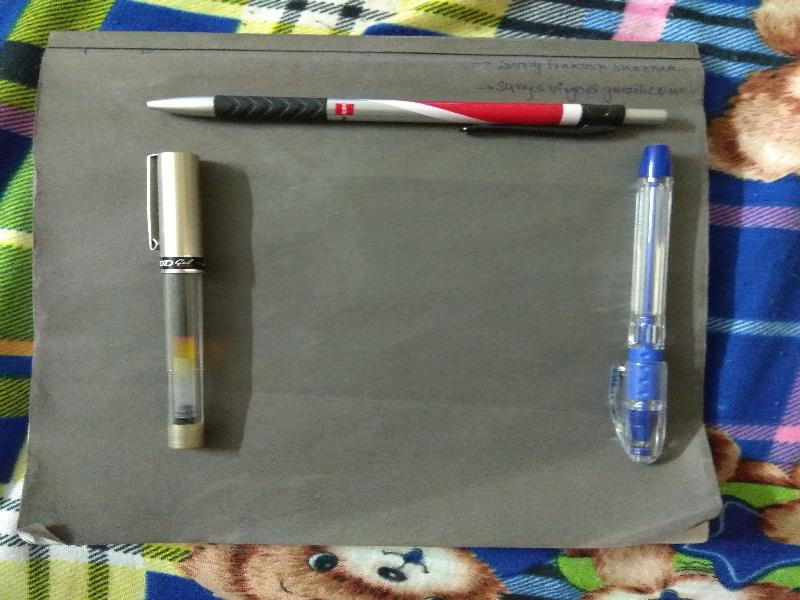pen: (144, 88, 677, 146), (600, 144, 678, 468), (140, 148, 219, 456)
